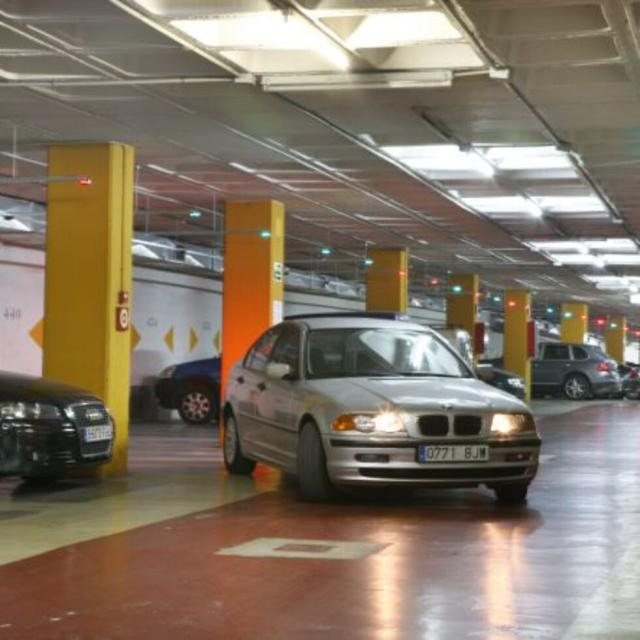libre: (134, 342, 230, 474)
ocupado: (0, 354, 131, 506), (432, 323, 640, 404)
